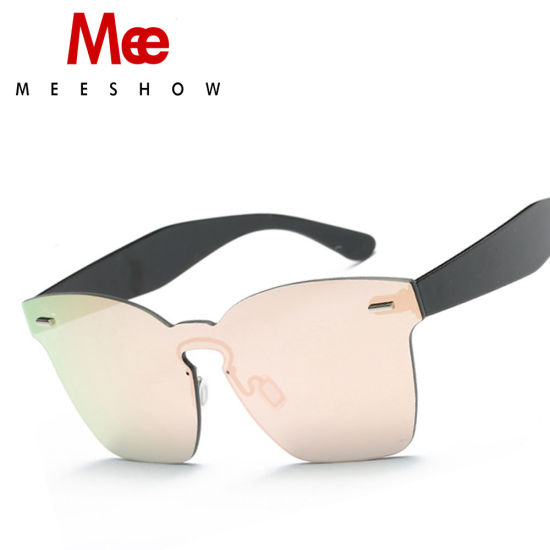sunglasses: (14, 207, 536, 482)
